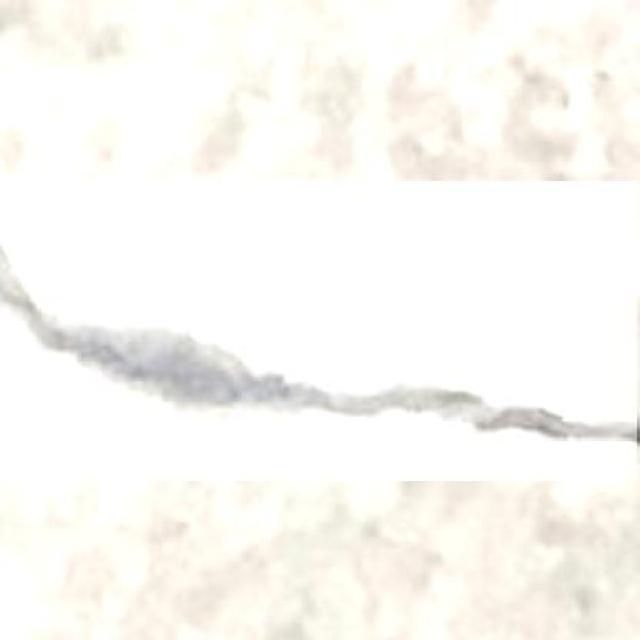Crack: (3, 212, 637, 477)
